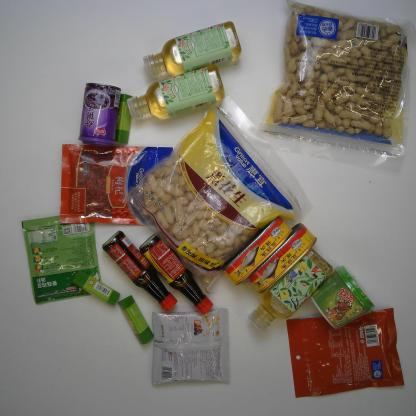Canned Food: (221, 216, 294, 285), (248, 223, 318, 294), (78, 83, 120, 147)
Dried Food: (118, 94, 310, 296), (254, 1, 416, 175)
Dried Fruit: (286, 308, 406, 398), (60, 143, 174, 226)
Drink: (248, 246, 333, 334), (143, 21, 241, 82), (126, 65, 225, 120)
Instant Drink: (152, 309, 229, 386), (309, 265, 374, 330)
Seasoner: (21, 209, 104, 305), (139, 232, 213, 316), (102, 230, 178, 311)
Stationery: (118, 295, 154, 345), (72, 270, 120, 306), (110, 93, 134, 145)
